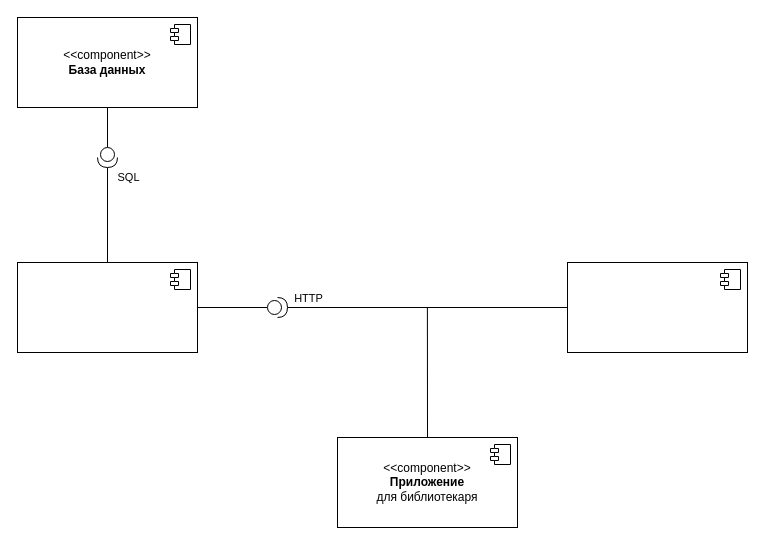
Some shapes in this 765 by 545 pixel diagram are drawn without their labels. Here are the shapes that lost their labels. From the top down, the centre of each, then its label:
At (x=107, y=307): "<<component>> Сервер".
At (x=657, y=307): "<<component>> Терминал".
